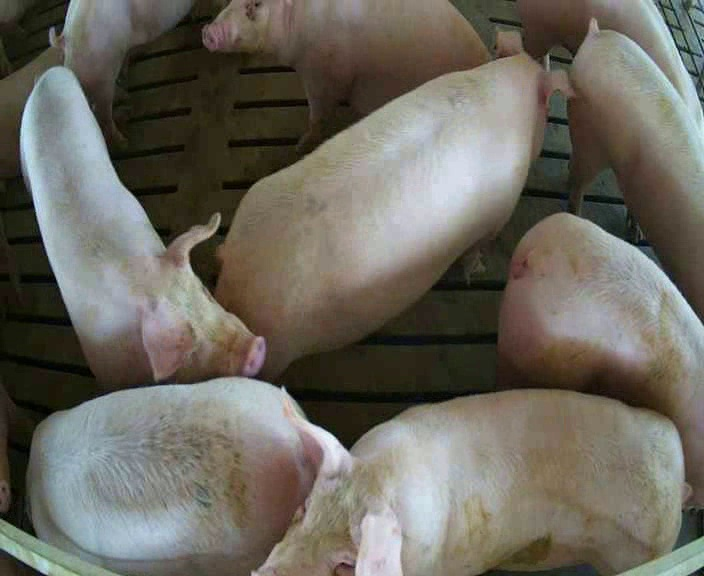pig: (256, 386, 683, 575), (21, 67, 264, 386), (498, 214, 703, 505), (202, 2, 488, 149), (569, 23, 703, 318), (63, 2, 191, 141)
